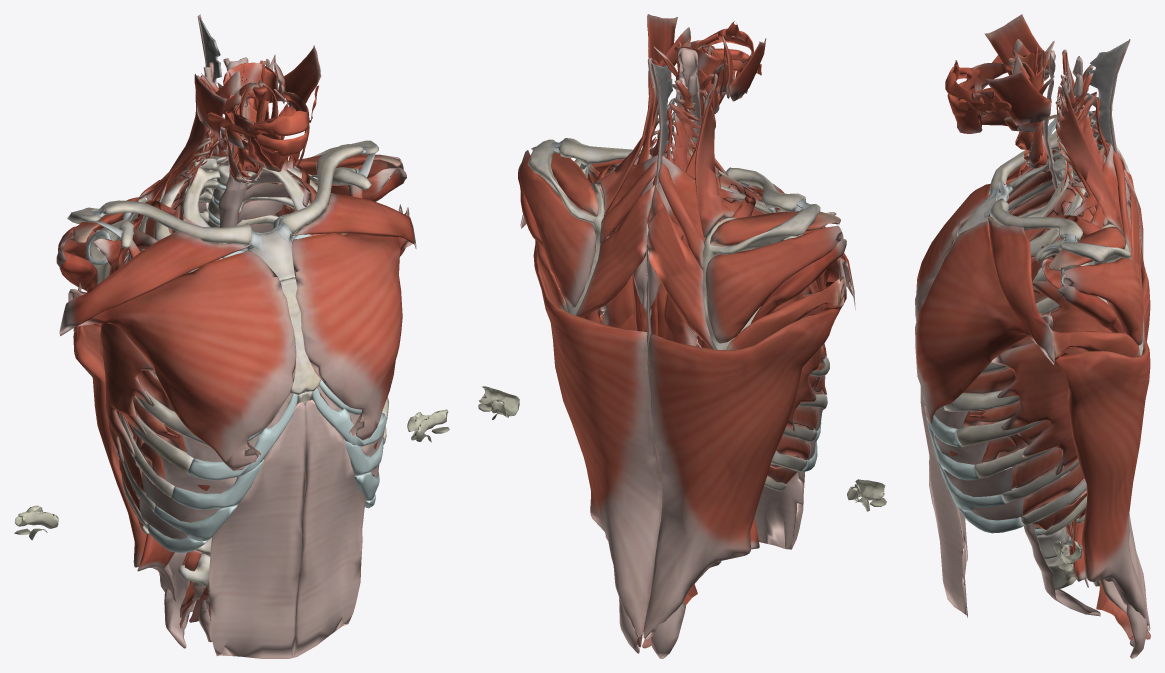
File: trunk-muscles.glb
3 renders of one model, left to right at view 1: azimuth 30°, elevation 25°; view 2: azimuth 150°, elevation 25°; view 3: azimuth 270°, elevation 25°, orthographic. The views are drawn at different scales.
Visible parts, largest first — view 1: Right_sternocostal_portion_of_pectoralis_major, Right_internal_oblique_aponeurosis_posterior_lamina, Left_sternocostal_portion_of_pectoralis_major, Left_internal_oblique_aponeurosis_posterior_lamina, Right_clavicular_portion_of_pectoralis_major, Right_serratus_anterior, Right_external_intercostal_membranes, Right_latissimus_dorsi, Left_clavicular_portion_of_pectoralis_major, Right_external_intercostal_muscles, Right_clavicle, Left_clavicle (+31 smaller); view 2: Right_latissimus_dorsi, Left_latissimus_dorsi, Right_infraspinatus, Left_infraspinatus, Right_rhomboid_major, Left_rhomboid_major, Right_internal_oblique_aponeurosis_posterior_lamina, Right_levator_scapulae, Right_scapula, Right_external_intercostal_muscles, Right_teres_major, Left_scapula (+27 smaller); view 3: Left_latissimus_dorsi, Left_sternocostal_portion_of_pectoralis_major, Left_serratus_anterior, Left_external_intercostal_muscles, Left_clavicular_portion_of_pectoralis_major, Left_internal_oblique_aponeurosis_posterior_lamina, Left_infraspinatus, Left_external_intercostal_membranes, Left_levator_scapulae, Right_sternocostal_portion_of_pectoralis_major, Left_superficial_part_of_masseter, Anterior_longitudinal_ligament (+41 smaller).
Part boxes in pixels (x1=…): Right_sternocostal_portion_of_pectoralis_major: x1=68, y1=250, x2=296, y2=470; Right_internal_oblique_aponeurosis_posterior_lamina: x1=209, y1=402, x2=305, y2=658; Left_sternocostal_portion_of_pectoralis_major: x1=291, y1=207, x2=412, y2=440; Left_internal_oblique_aponeurosis_posterior_lamina: x1=292, y1=400, x2=366, y2=657; Right_clavicular_portion_of_pectoralis_major: x1=59, y1=230, x2=250, y2=336; Right_serratus_anterior: x1=100, y1=200, x2=198, y2=463; Right_external_intercostal_membranes: x1=139, y1=258, x2=292, y2=538; Right_latissimus_dorsi: x1=73, y1=282, x2=192, y2=605; Left_clavicular_portion_of_pectoralis_major: x1=290, y1=193, x2=416, y2=248; Right_external_intercostal_muscles: x1=117, y1=177, x2=219, y2=515; Right_clavicle: x1=101, y1=200, x2=251, y2=244; Left_clavicle: x1=278, y1=144, x2=363, y2=233; Right_latissimus_dorsi: x1=643, y1=257, x2=846, y2=639; Left_latissimus_dorsi: x1=533, y1=244, x2=662, y2=637; Right_infraspinatus: x1=705, y1=225, x2=843, y2=343; Left_infraspinatus: x1=519, y1=150, x2=596, y2=307; Right_rhomboid_major: x1=647, y1=185, x2=714, y2=349; Left_rhomboid_major: x1=576, y1=184, x2=654, y2=317; Right_internal_oblique_aponeurosis_posterior_lamina: x1=754, y1=434, x2=804, y2=549; Right_levator_scapulae: x1=694, y1=79, x2=733, y2=238; Right_scapula: x1=702, y1=204, x2=820, y2=349; Right_external_intercostal_muscles: x1=696, y1=174, x2=826, y2=482; Right_teres_major: x1=726, y1=276, x2=844, y2=350; Left_scapula: x1=527, y1=139, x2=604, y2=315; Left_latissimus_dorsi: x1=1049, y1=309, x2=1150, y2=630; Left_sternocostal_portion_of_pectoralis_major: x1=915, y1=221, x2=1053, y2=424; Left_serratus_anterior: x1=991, y1=215, x2=1110, y2=475; Left_external_intercostal_muscles: x1=963, y1=184, x2=1095, y2=525; Left_clavicular_portion_of_pectoralis_major: x1=988, y1=214, x2=1054, y2=365; Left_internal_oblique_aponeurosis_posterior_lamina: x1=920, y1=387, x2=967, y2=617; Left_infraspinatus: x1=1064, y1=257, x2=1143, y2=345; Left_external_intercostal_membranes: x1=934, y1=408, x2=1024, y2=520; Left_levator_scapulae: x1=1055, y1=85, x2=1123, y2=235; Right_sternocostal_portion_of_pectoralis_major: x1=915, y1=176, x2=1017, y2=320; Left_superficial_part_of_masseter: x1=984, y1=70, x2=1051, y2=125; Anterior_longitudinal_ligament: x1=1023, y1=50, x2=1100, y2=616.
Bounding box in the file's own units: 0.4801 × 0.6676 × 0.2324.
Materials: 396 (396 with a texture image).
